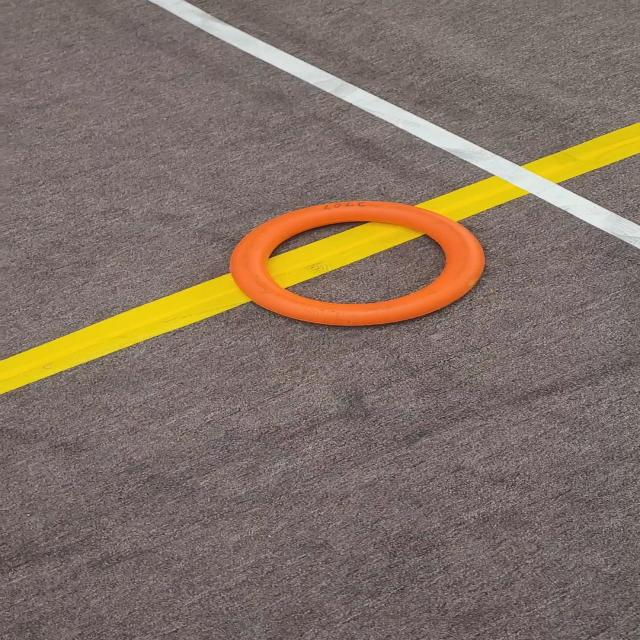note: (225, 194, 508, 338)
